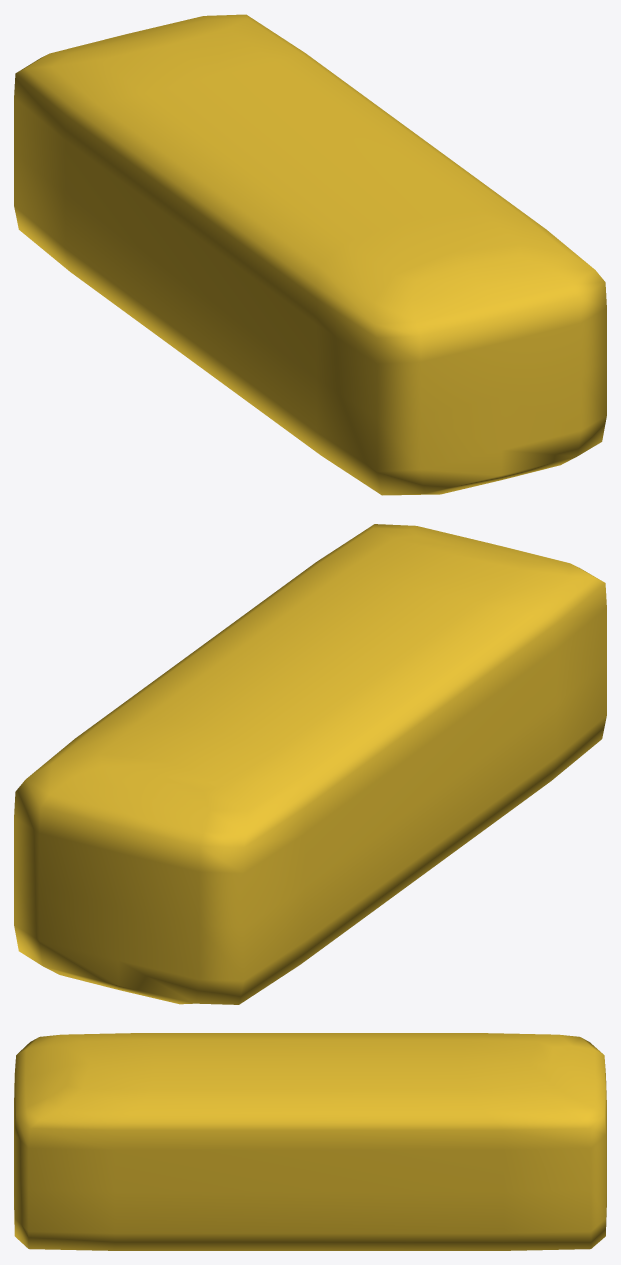
The model's file is coffee cojin.fbx.
3 renders of one model, top to bottom at view 1: azimuth 30°, elevation 25°; view 2: azimuth 150°, elevation 25°; view 3: azimuth 270°, elevation 25°, orthographic. The views are drawn at different scales.
Visible parts, largest first — view 1: Cube.032; view 2: Cube.032; view 3: Cube.032.
Boxes of the visible parts, left/top/right/bottom form: Cube.032: left=14, top=14, right=606, bottom=495; Cube.032: left=14, top=524, right=606, bottom=1004; Cube.032: left=14, top=1033, right=606, bottom=1250.
Size of the model in its own units: 2 by 1.54 by 5.53.
